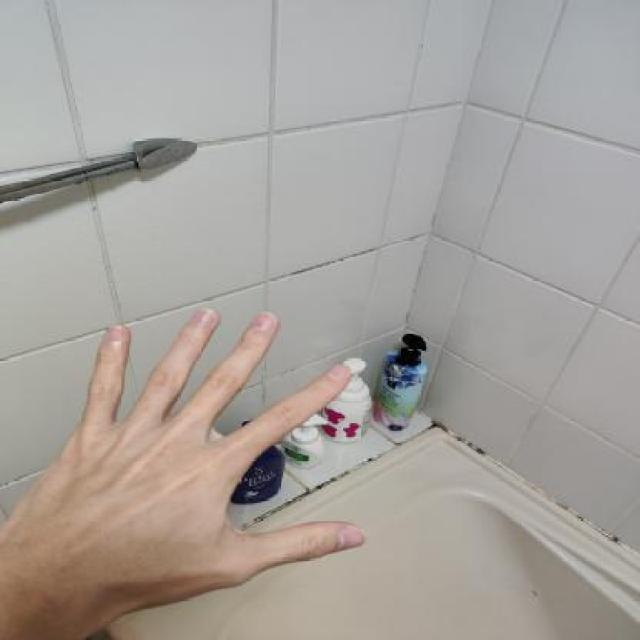bare_hand: (0, 297, 378, 640)
